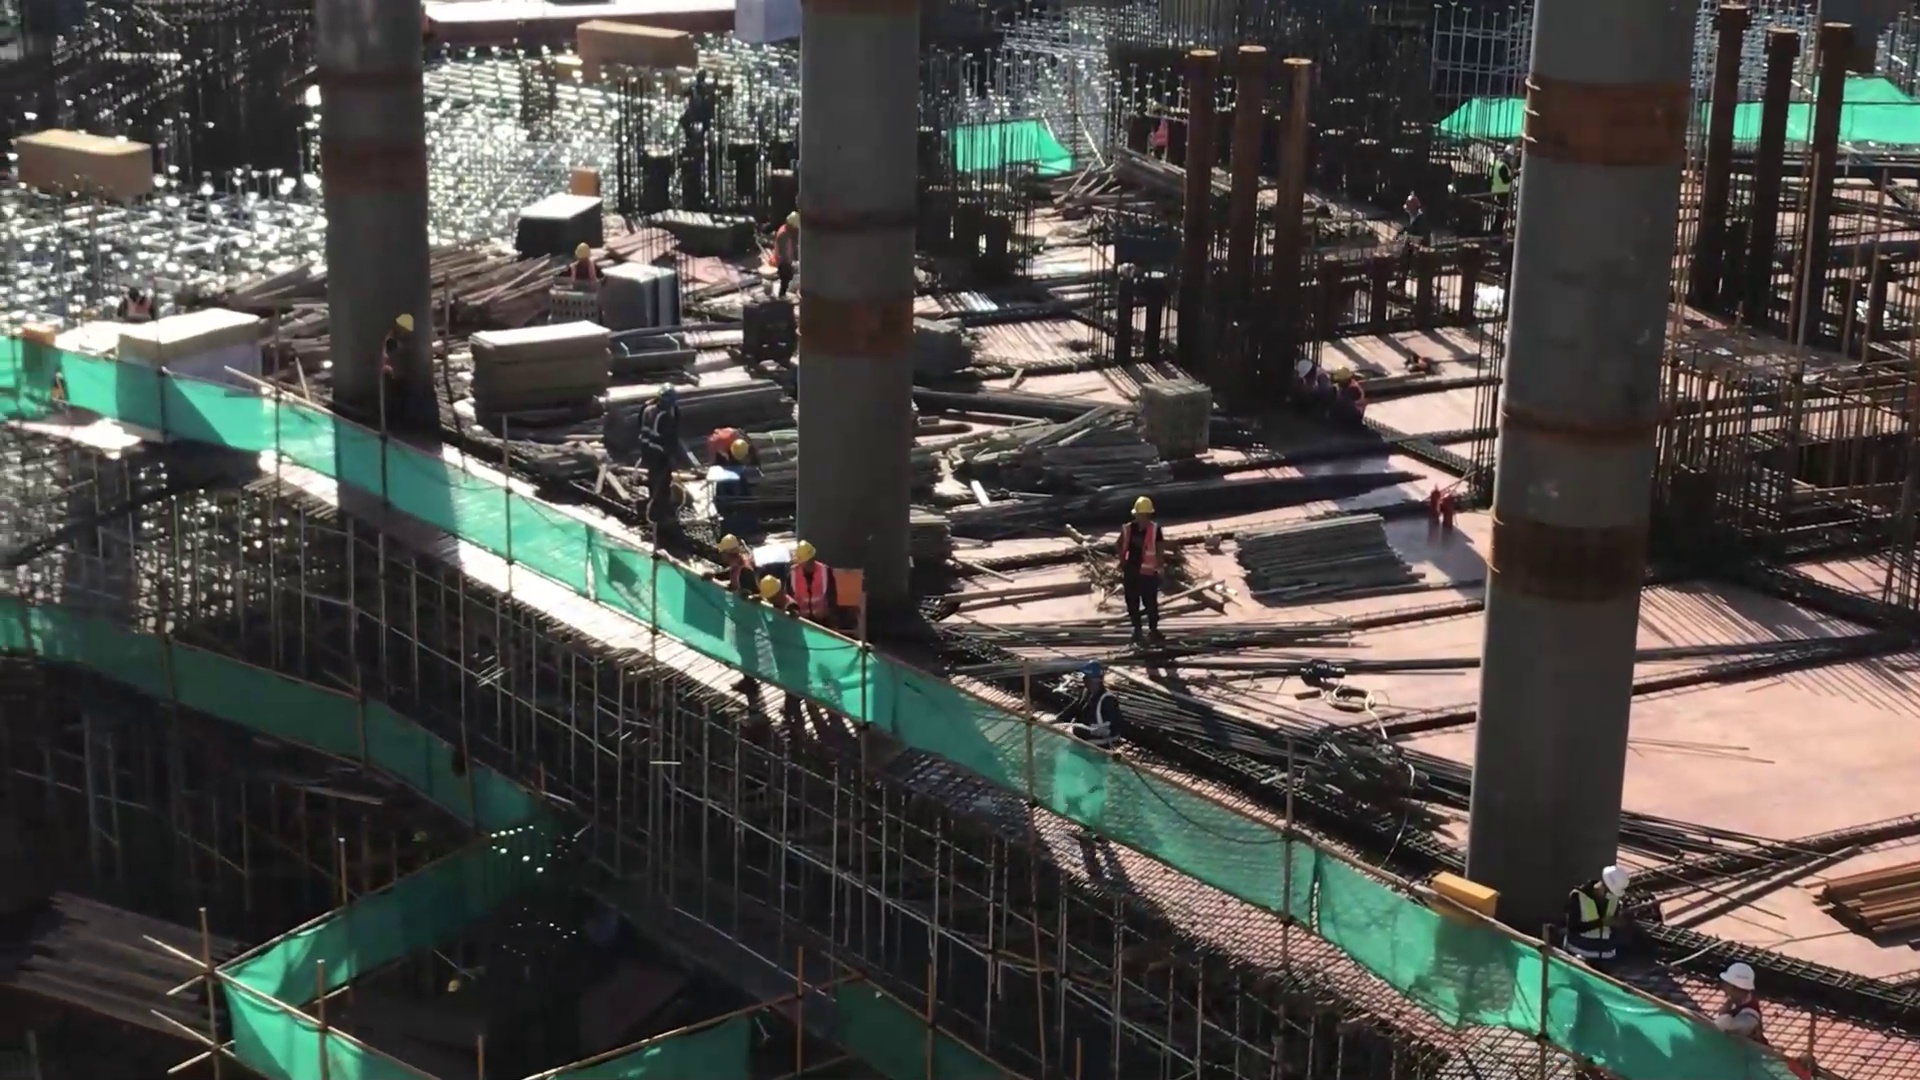helmet: (1717, 958, 1767, 1013), (1597, 856, 1645, 896), (789, 538, 830, 572), (754, 577, 786, 611), (651, 377, 684, 409), (392, 312, 425, 344), (1123, 491, 1157, 521), (715, 535, 742, 568), (1331, 363, 1357, 392), (723, 443, 752, 468), (1290, 357, 1318, 383), (781, 213, 807, 236), (1146, 100, 1166, 120), (573, 238, 590, 260), (1132, 100, 1147, 119), (1497, 144, 1513, 159), (1403, 192, 1418, 210)
person: (1109, 479, 1175, 651), (625, 376, 690, 545), (1555, 846, 1639, 975), (1700, 956, 1768, 1046), (783, 535, 841, 627), (756, 204, 803, 308), (703, 524, 760, 609), (372, 306, 425, 395), (702, 424, 757, 478), (1285, 349, 1329, 411), (1332, 354, 1367, 426), (1493, 141, 1516, 232), (562, 234, 603, 283), (1123, 91, 1148, 155), (1396, 188, 1426, 240)
vest: (1561, 886, 1615, 960), (1115, 524, 1167, 596), (640, 407, 677, 464), (788, 574, 831, 616), (767, 240, 798, 283), (1492, 159, 1513, 212), (564, 261, 603, 282), (1148, 122, 1170, 160), (1399, 209, 1423, 237)
